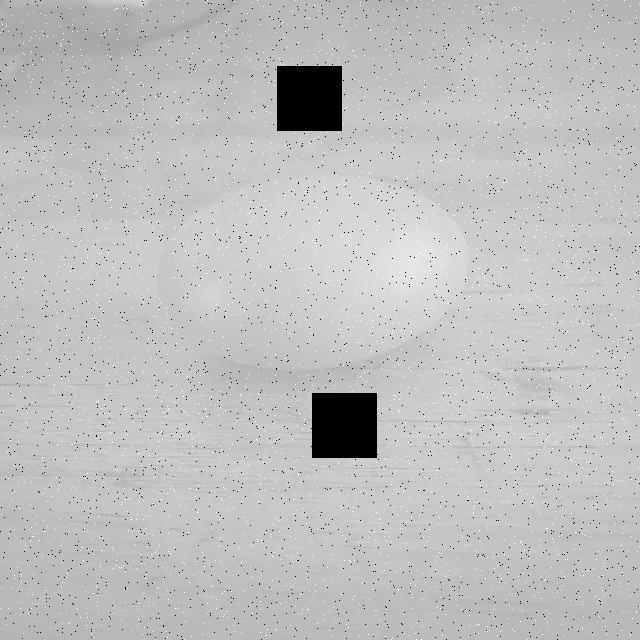egg: (156, 159, 478, 381)
